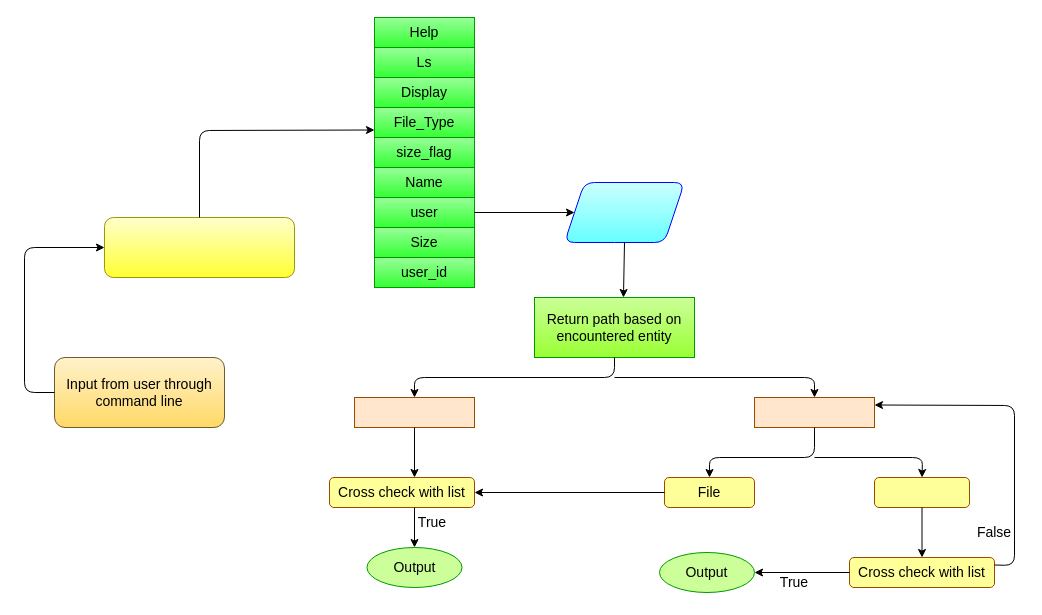
Some shapes in this 1042 by 615 pixel diagram are drawn without their labels. The centre of each missing label's shape, as x and y in pixels:
Creation of linked list and store information: the point at 199,247
Directory: the point at 922,492
Directory found: the point at 814,412
File found: the point at 414,412
Find_Path() function: the point at 624,212
